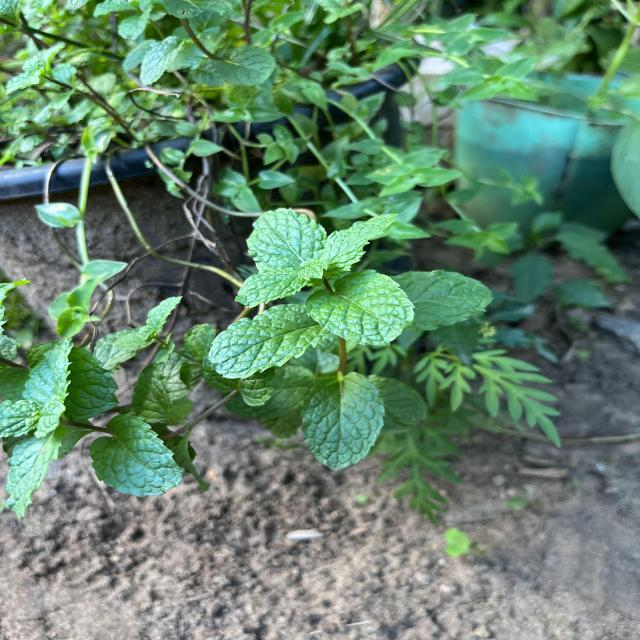Mentha spicata: (206, 302, 330, 381), (305, 268, 419, 348), (298, 372, 388, 472), (89, 413, 184, 499)
